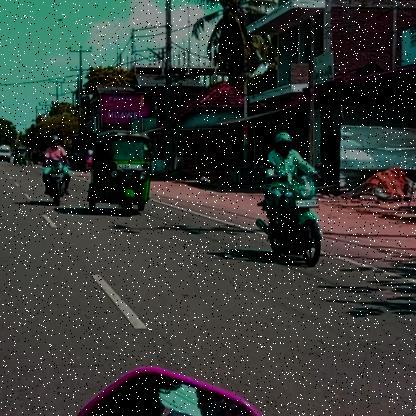motorcycle: (252, 173, 330, 268), (41, 158, 74, 208)
